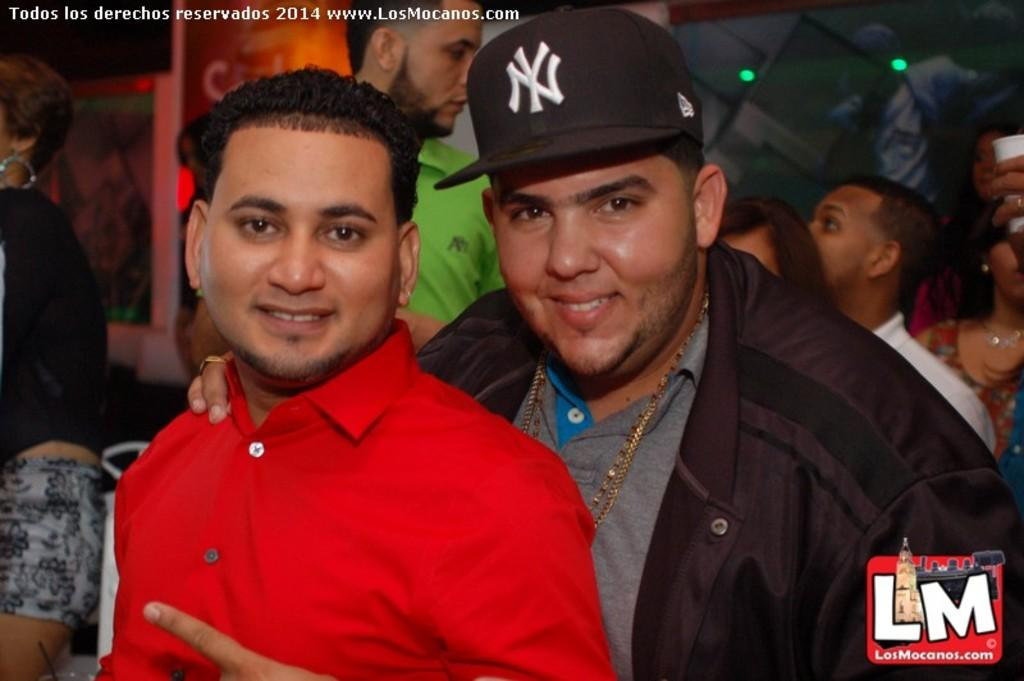Hat: (430, 5, 704, 193)
